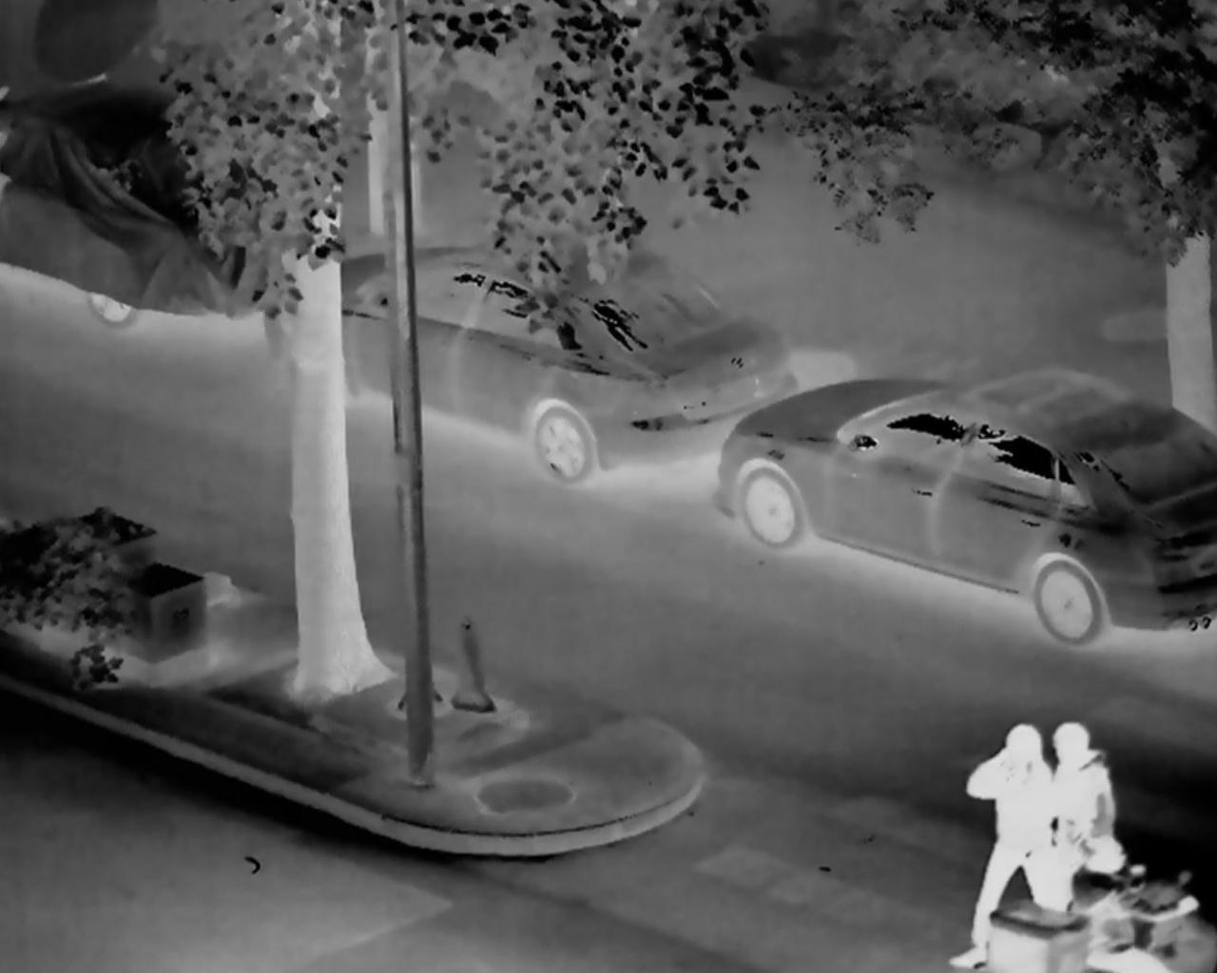person: (954, 714, 1055, 969), (1047, 715, 1130, 946), (1051, 831, 1176, 973)
